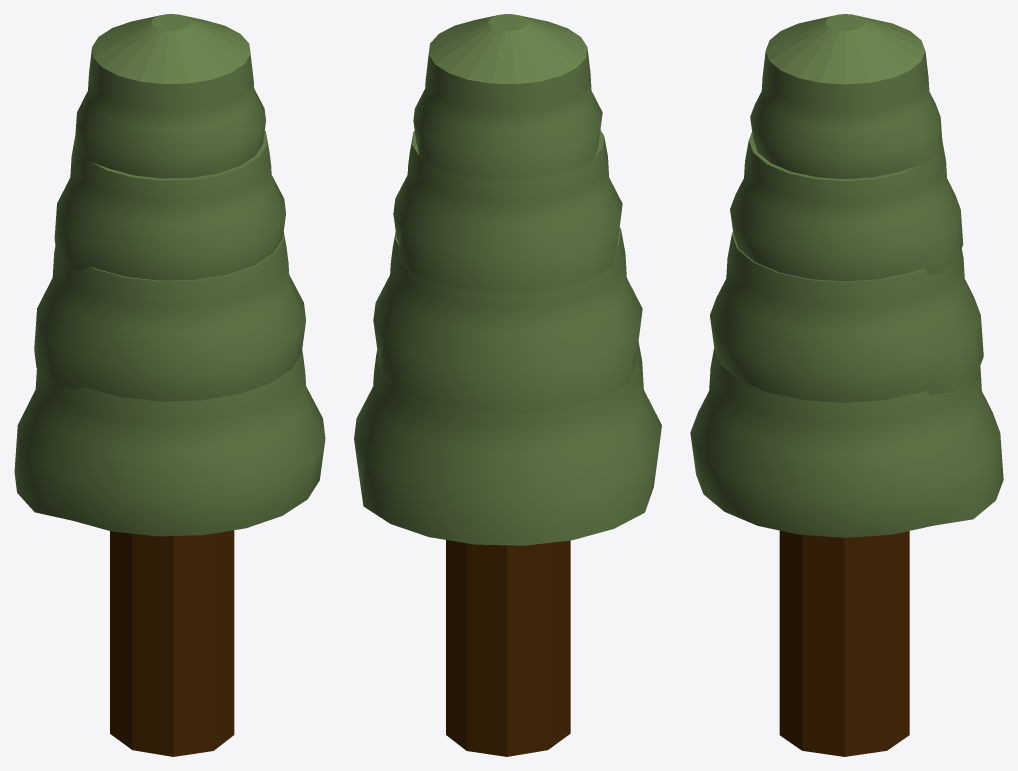
The model's file is pine.fbx.
3 renders of one model, left to right at view 1: azimuth 30°, elevation 25°; view 2: azimuth 150°, elevation 25°; view 3: azimuth 270°, elevation 25°, orthographic.
Visible parts, largest first — view 1: polySurface6; view 2: polySurface6; view 3: polySurface6.
Boxes of the visible parts, <box> form: polySurface6: <box>14,14,325,756</box>; polySurface6: <box>354,14,661,756</box>; polySurface6: <box>690,14,1003,756</box>.
Size of the model in its own units: 1.5 by 3.75 by 1.5.
